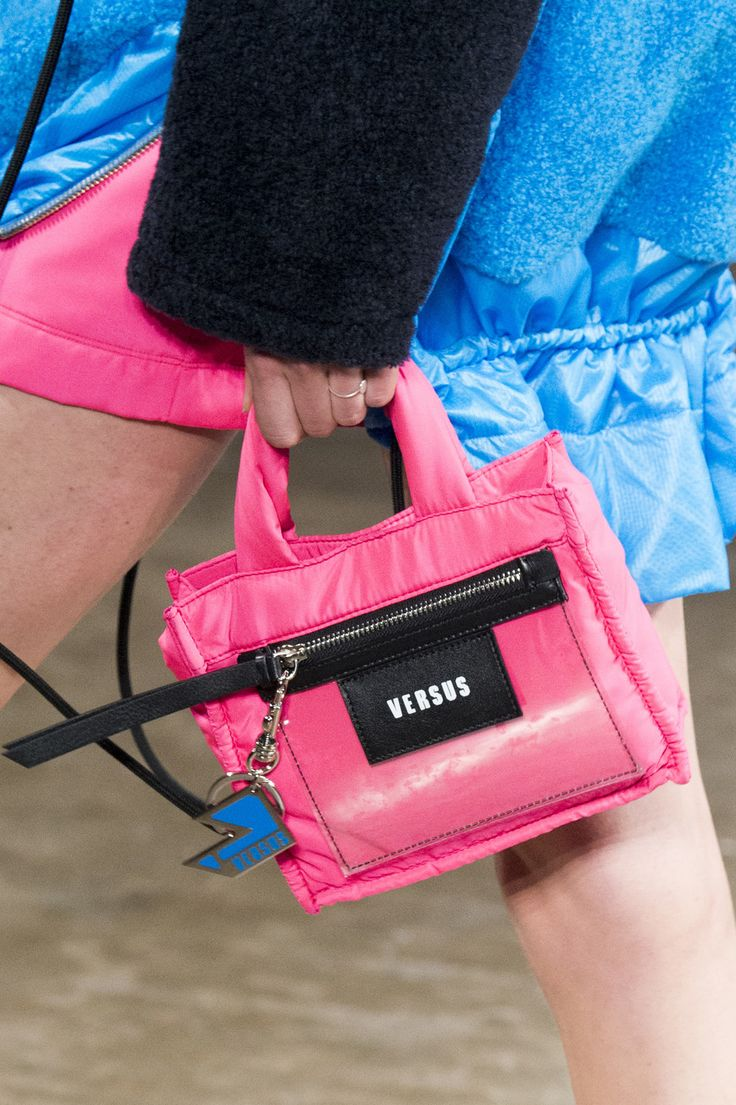nylon: (161, 356, 695, 914)
